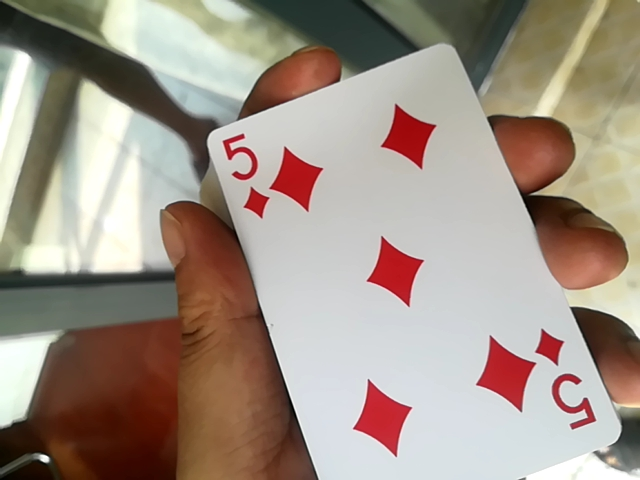fk 5: (205, 30, 621, 480)
